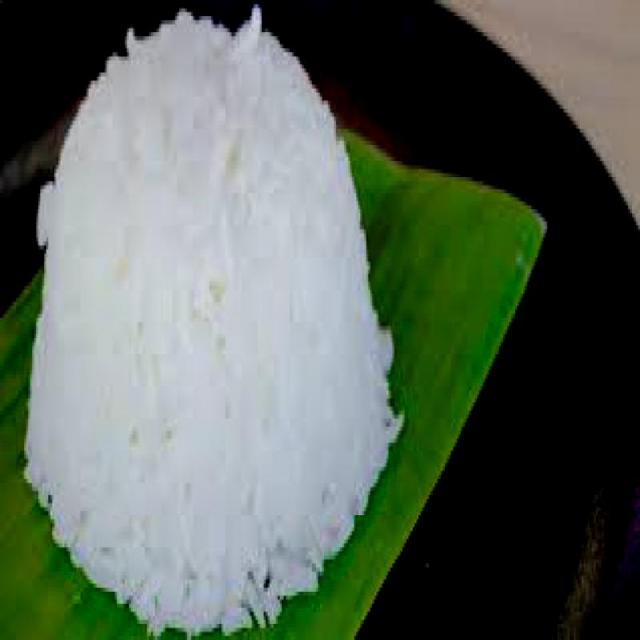rice: (24, 14, 393, 635)
